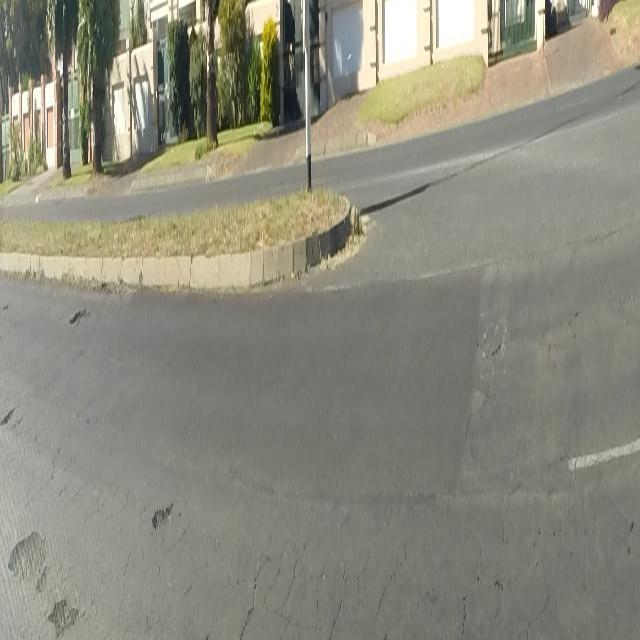pothole: (6, 528, 87, 640), (150, 496, 175, 536), (0, 396, 18, 430), (68, 308, 92, 324)
